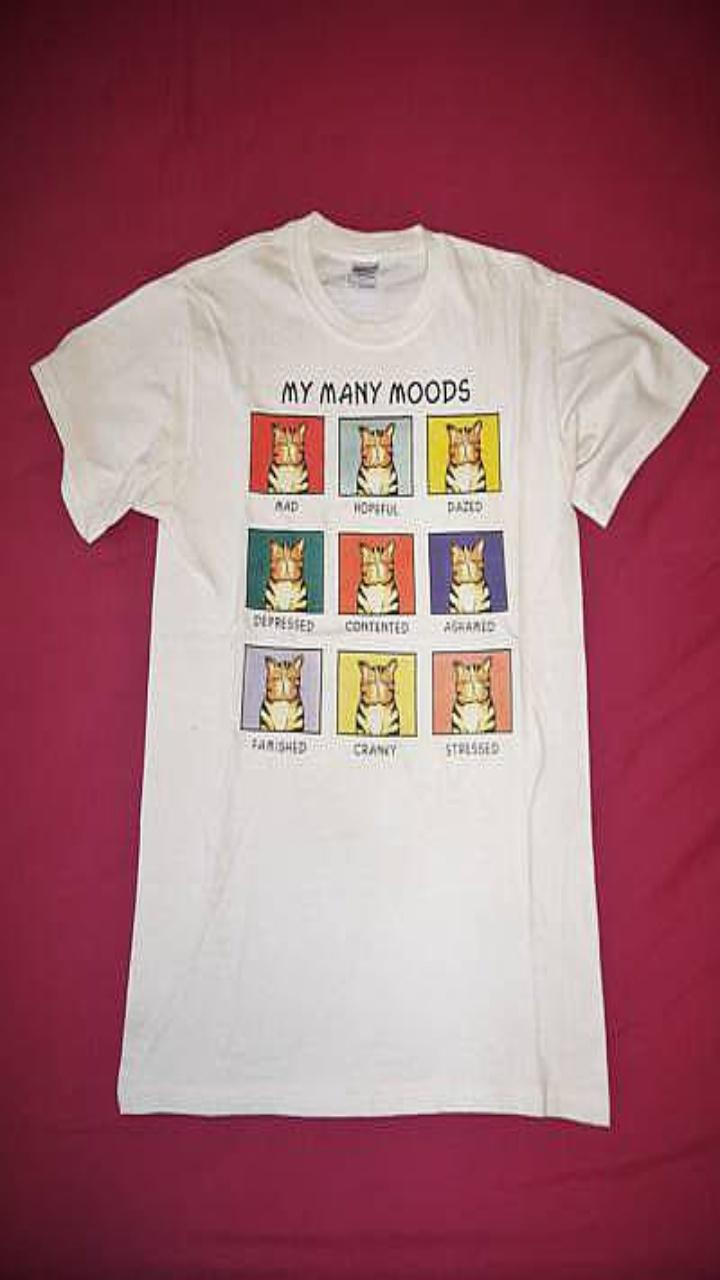T-Shirt: (31, 211, 708, 1125)
